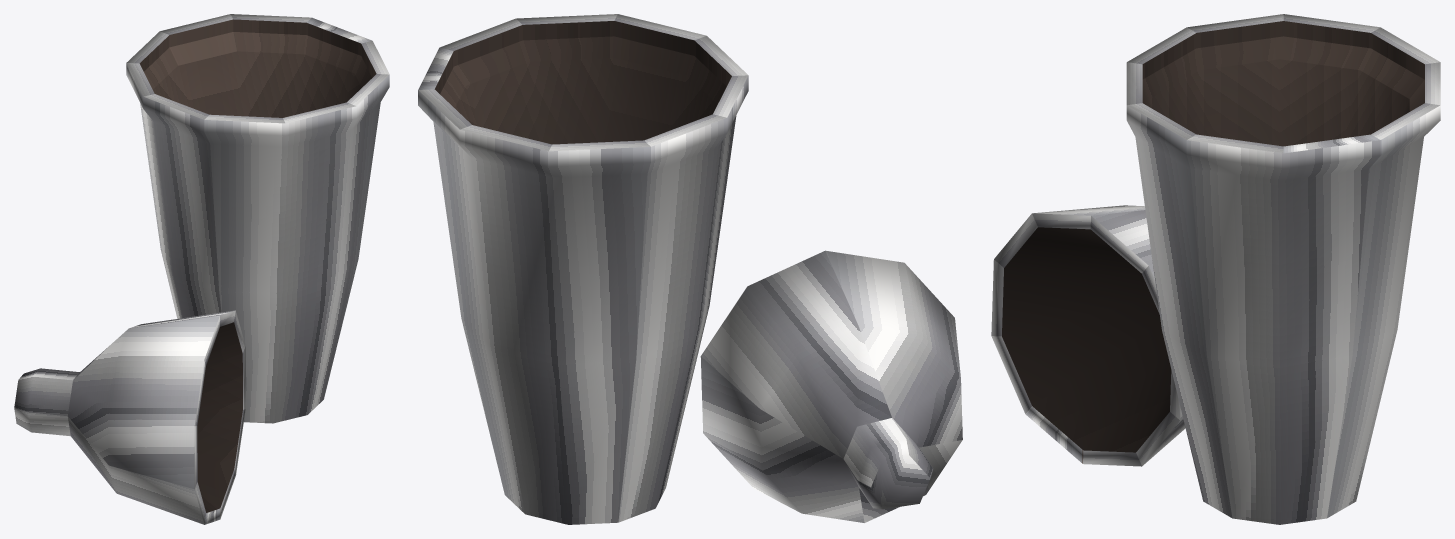
The model's file is CocktailMixer.fbx.
The picture shows the model from 3 angles, left to right: view 1: azimuth 30°, elevation 25°; view 2: azimuth 150°, elevation 25°; view 3: azimuth 270°, elevation 25°; orthographic projection. The views are drawn at different scales.
Visible parts, largest first — view 1: CocktailMixer; view 2: CocktailMixer; view 3: CocktailMixer.
Boxes of the visible parts, x1,y1,x2,y2 form: CocktailMixer: [14, 14, 389, 524]; CocktailMixer: [418, 14, 962, 524]; CocktailMixer: [991, 14, 1440, 524].
Bounding box in the file's own units: 33.96 × 31.42 × 28.29.
